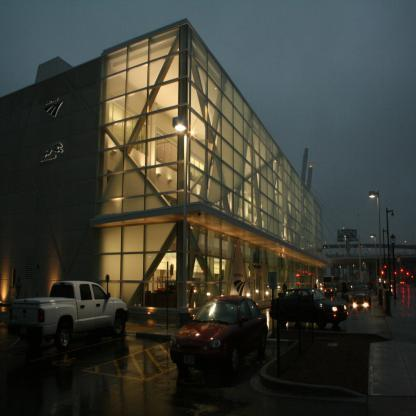car: (170, 291, 272, 386), (272, 288, 346, 330), (352, 296, 369, 314)
